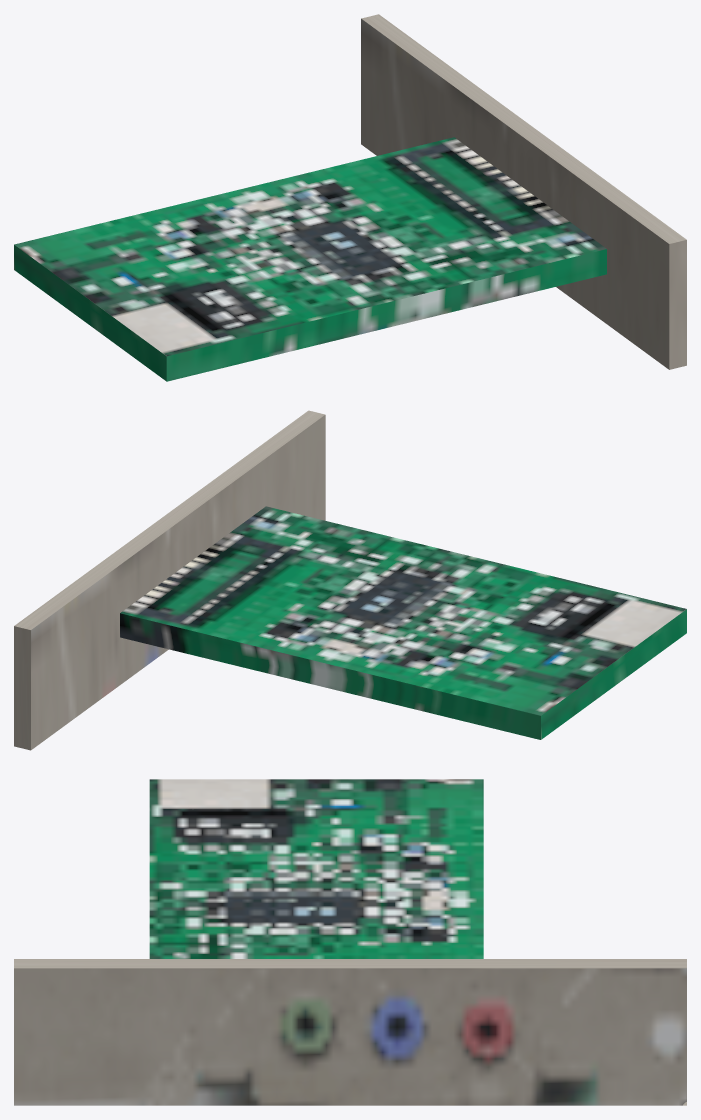
Rendered from SoundCard.fbx.
3 renders of one model, top to bottom at view 1: azimuth 30°, elevation 25°; view 2: azimuth 150°, elevation 25°; view 3: azimuth 270°, elevation 25°, orthographic. The views are drawn at different scales.
Parts seen in each view (by area): view 1: SoundCard; view 2: SoundCard; view 3: SoundCard.
Part boxes in pixels (x1,y1,x2,y2): SoundCard: (14,14,686,381); SoundCard: (14,410,686,750); SoundCard: (14,779,686,1105).
Bounding box in the file's own units: 7.44 × 1.95 × 8.67.
